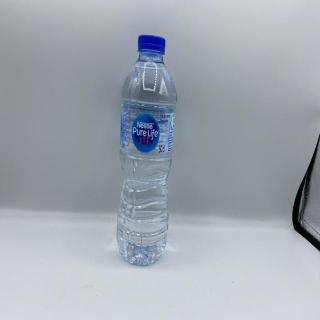Anorganik: (118, 31, 178, 268)
